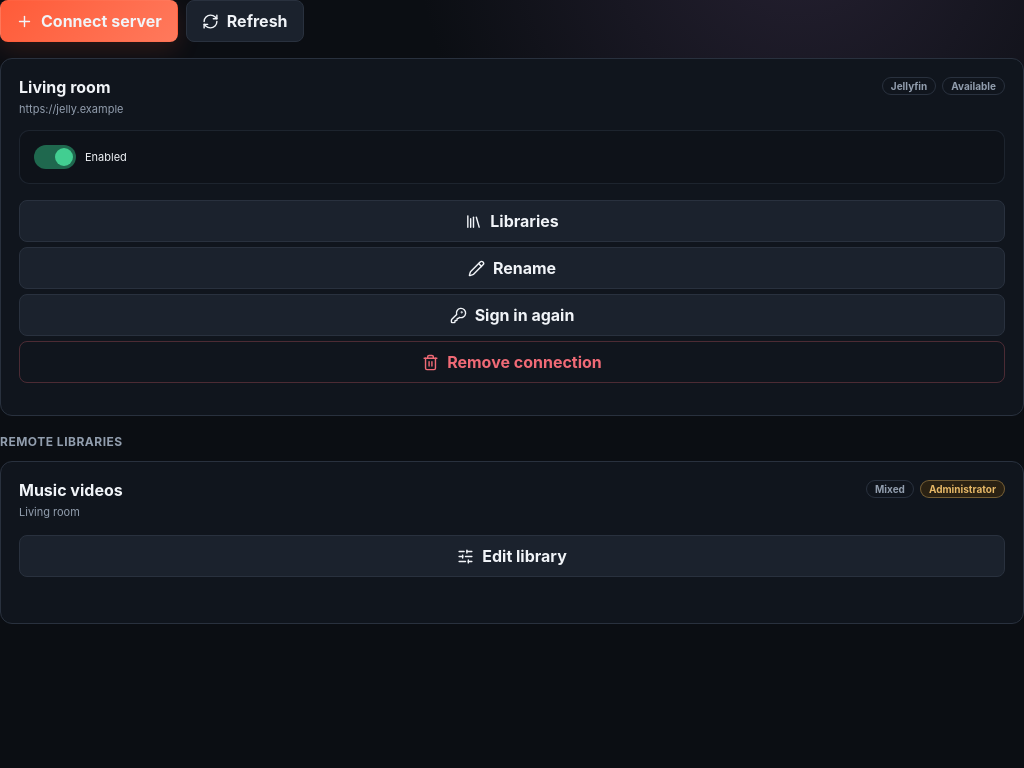
Test: RemoteLibraryDialog › uses the local editor's title, sections and server row
The width and height of the screenshot is (1024, 768).
Click the button "Edit library" at (512,556), box [19,535,1005,577]
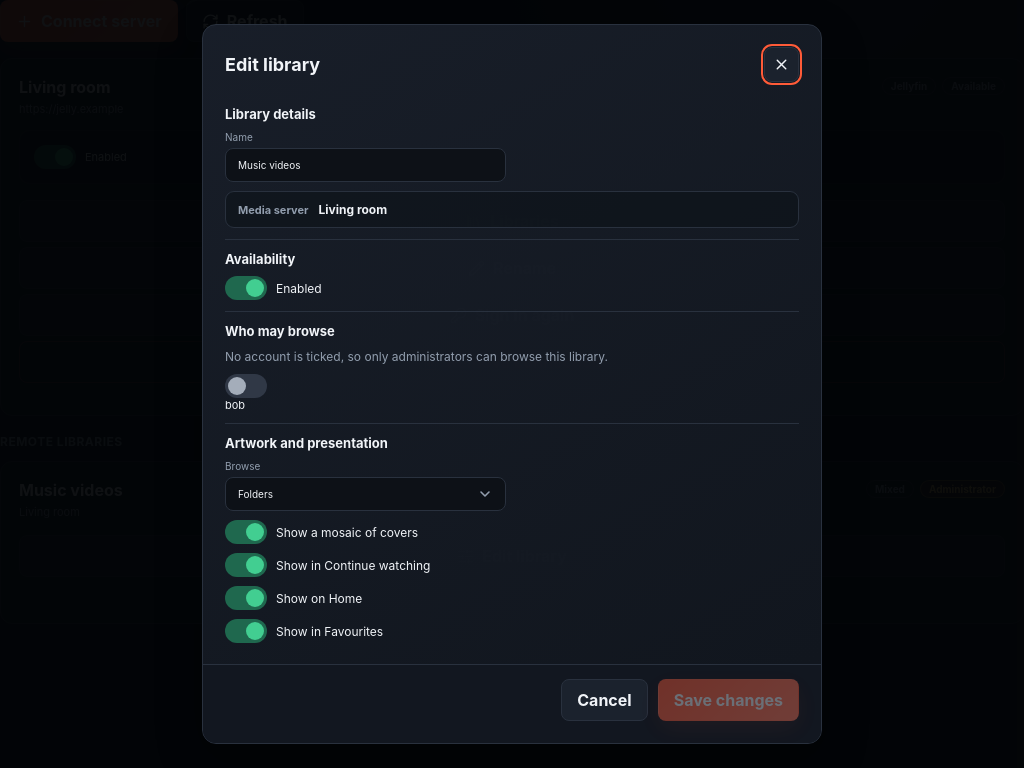
Check: the element with class "library-edit-card" is shown, box [202,24,822,744]
Check: the element with class "library-edit-body" is shown, box [203,106,821,652]
Check: the element with class "library-edit-folder" shows "Living room", box [318,202,387,217]
